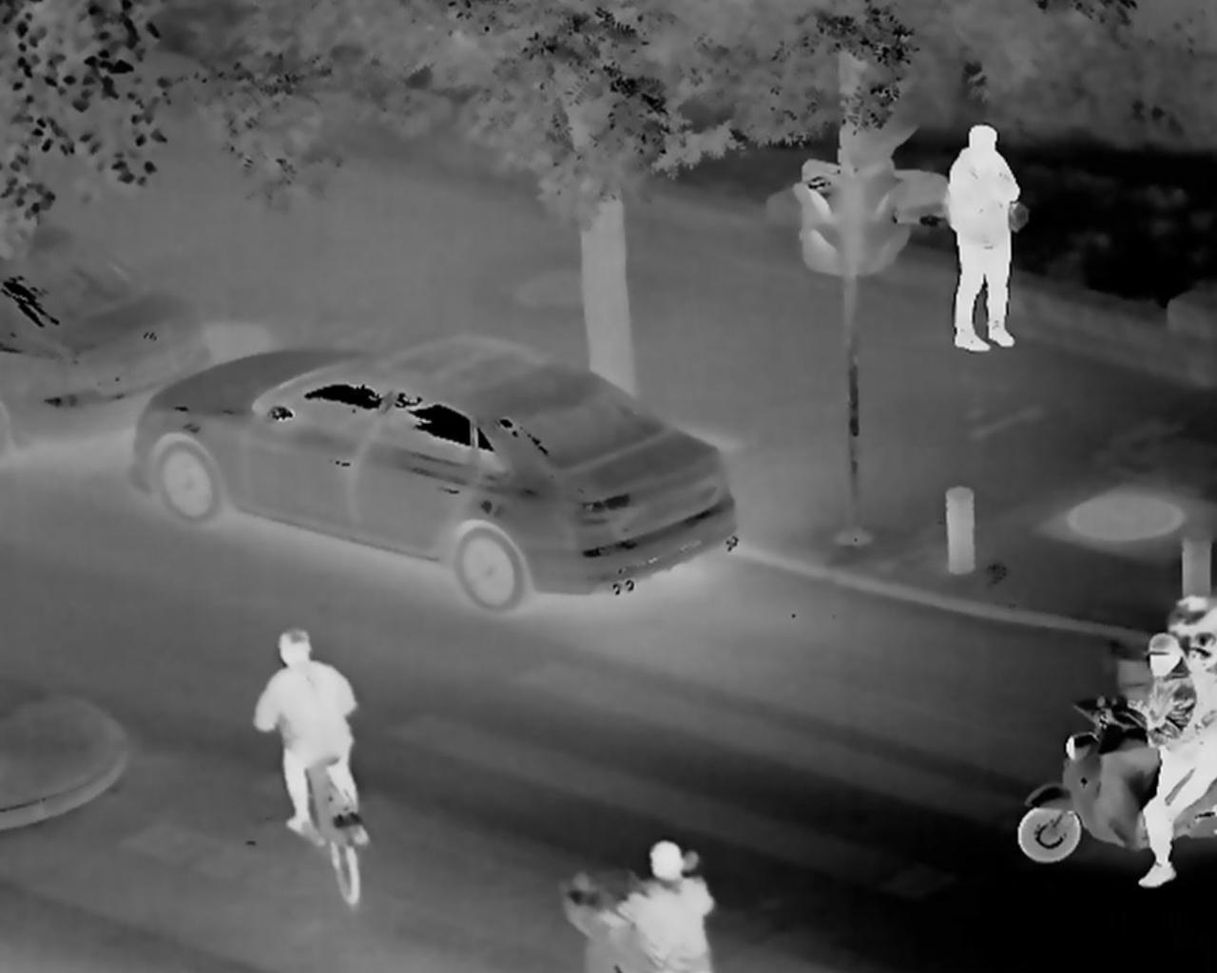person: (248, 624, 379, 854), (1135, 603, 1217, 924), (600, 834, 744, 973), (941, 124, 1011, 346)
